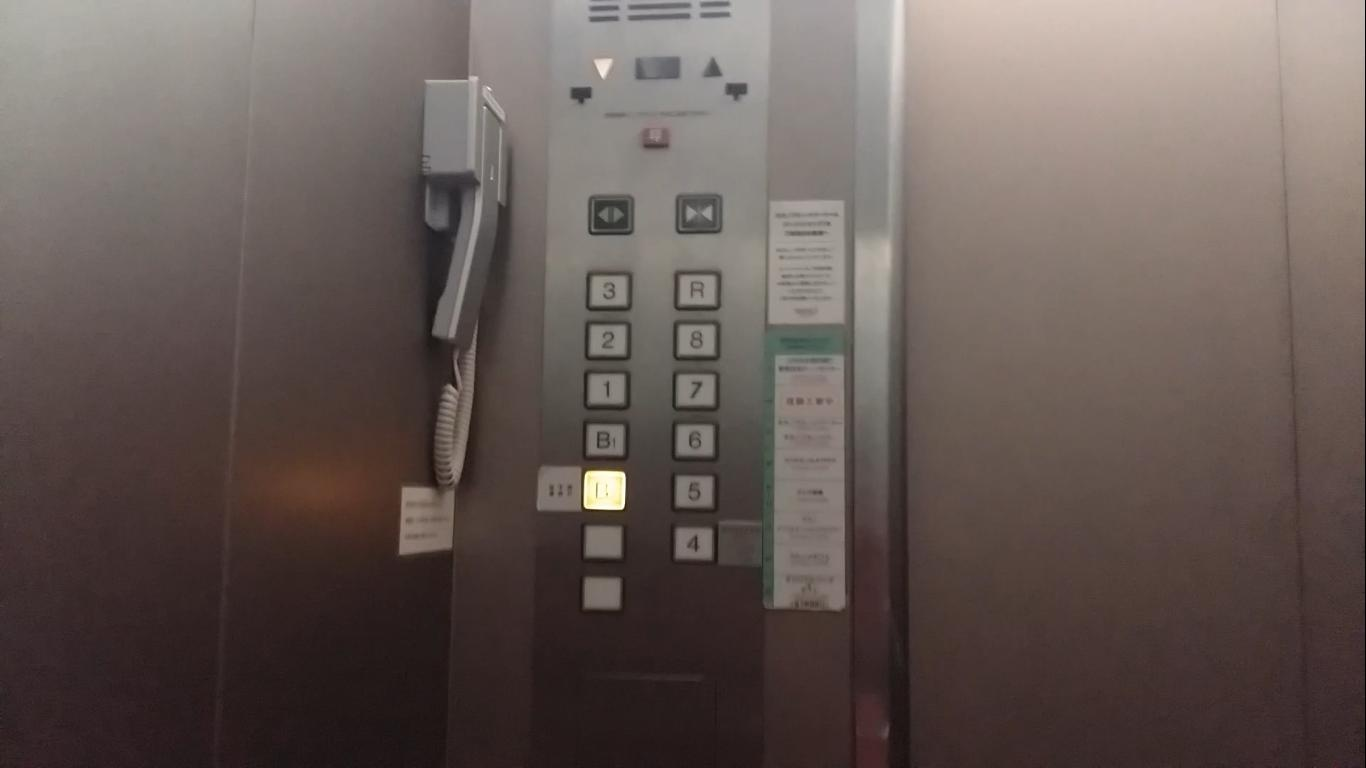1: (582, 369, 630, 411)
2: (583, 319, 632, 362)
3: (583, 270, 633, 313)
4: (669, 522, 716, 565)
5: (669, 471, 718, 514)
6: (670, 420, 719, 462)
7: (671, 369, 720, 412)
8: (672, 319, 721, 361)
B1: (581, 419, 629, 461)
R: (672, 269, 722, 312)
blur: (581, 469, 627, 511), (643, 126, 671, 147)
close: (674, 192, 723, 235)
empty: (579, 520, 626, 565), (578, 571, 625, 615)
open: (586, 194, 634, 236)
